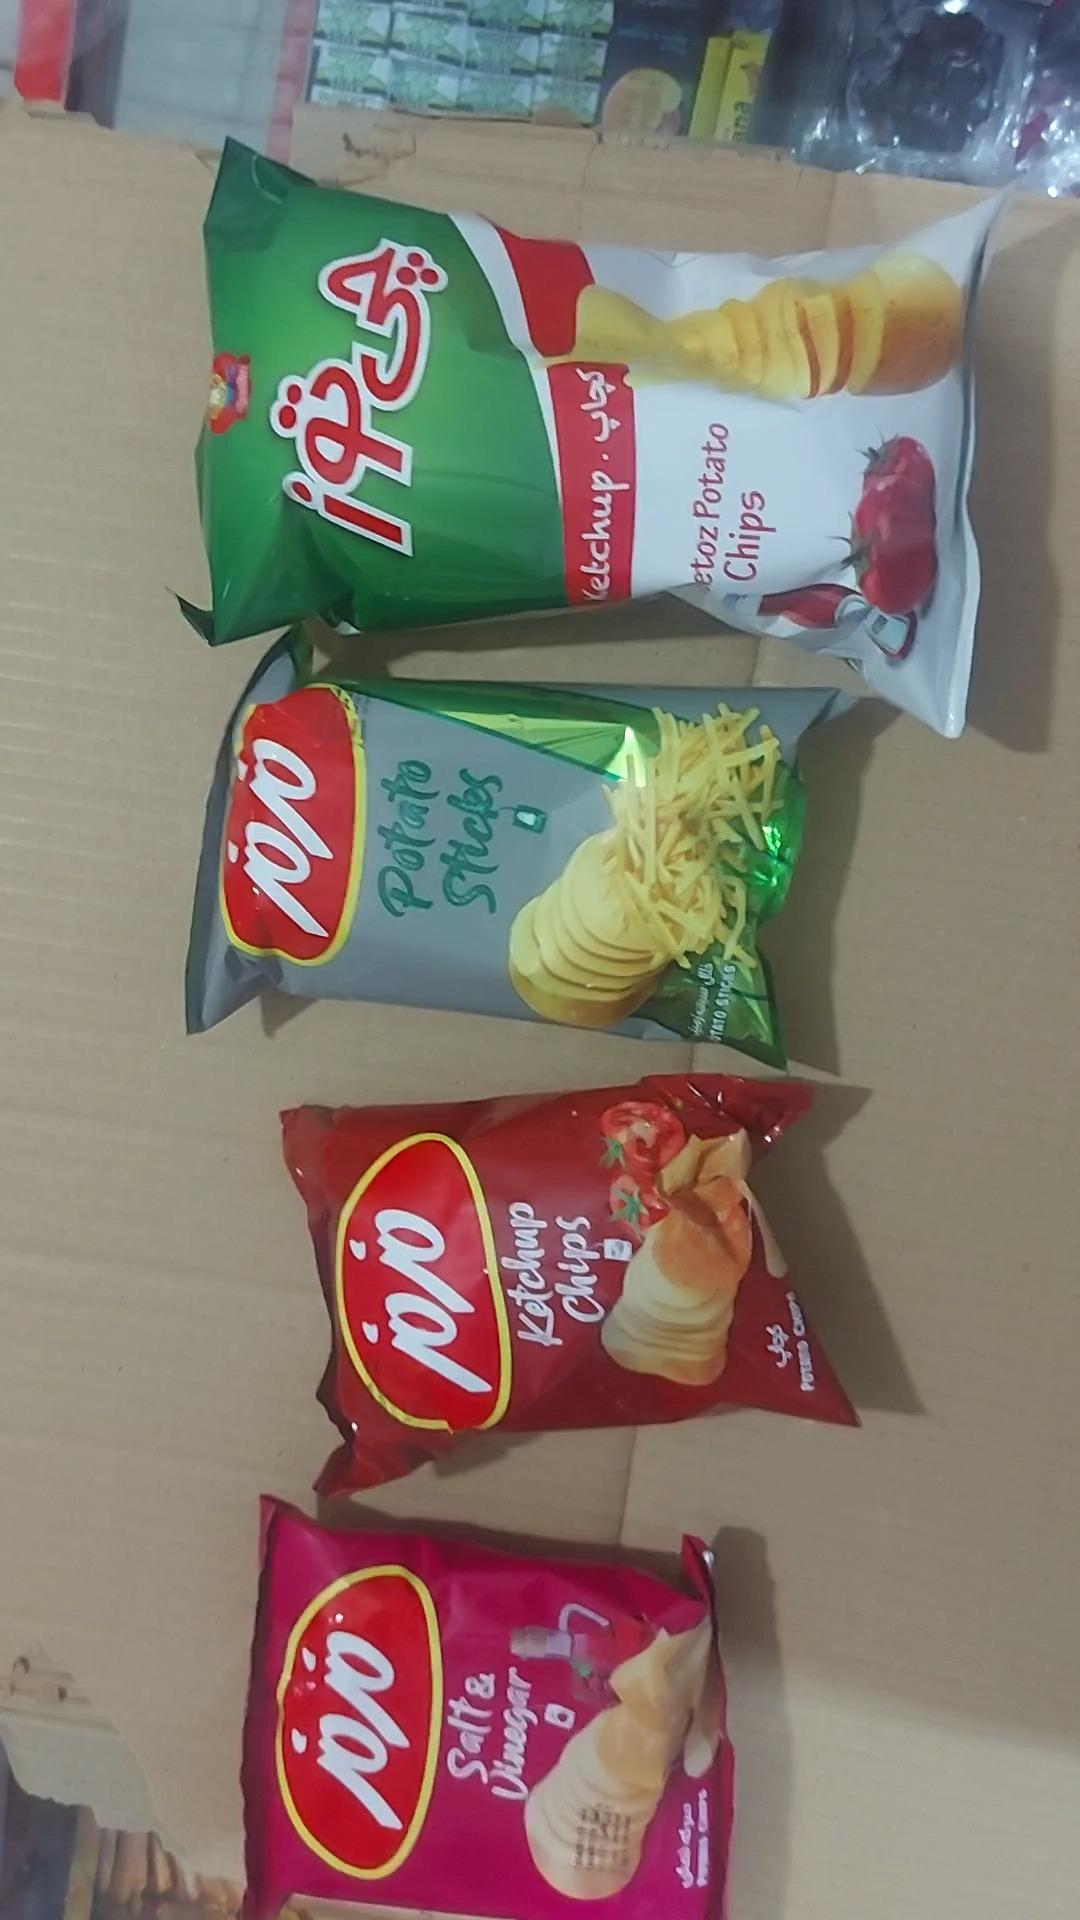Cheetoz ketchup chips: (171, 140, 1017, 740)
Maz Maz ketchup chips: (280, 1073, 861, 1499)
Maz Maz potato sticks: (185, 625, 851, 1069)
Maz Maz vinegar chips: (237, 1493, 735, 1919)
